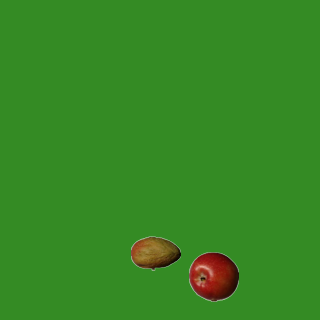Apple Braeburn: (188, 251, 238, 301)
Papaya: (130, 228, 180, 278)
